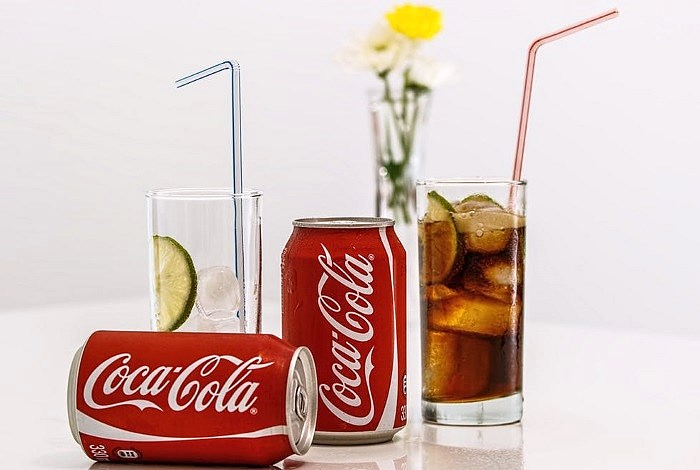coke: (73, 325, 317, 470), (288, 221, 410, 439)
